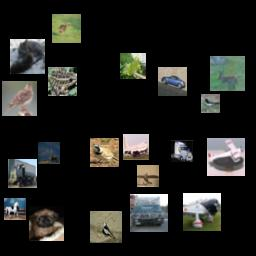airplane: (207, 138, 245, 176), (183, 193, 221, 231), (123, 134, 149, 160), (137, 165, 159, 187)
automobile: (158, 67, 187, 96)
bird: (2, 81, 37, 116), (90, 211, 122, 243), (90, 138, 119, 167), (120, 53, 146, 79), (201, 94, 220, 113)
cat: (10, 39, 45, 74)
deer: (210, 56, 245, 91), (52, 14, 81, 43), (38, 142, 60, 164)
dog: (29, 206, 64, 241)
frog: (48, 67, 77, 96)
truck: (130, 194, 168, 232), (8, 159, 37, 188), (171, 140, 193, 162)
